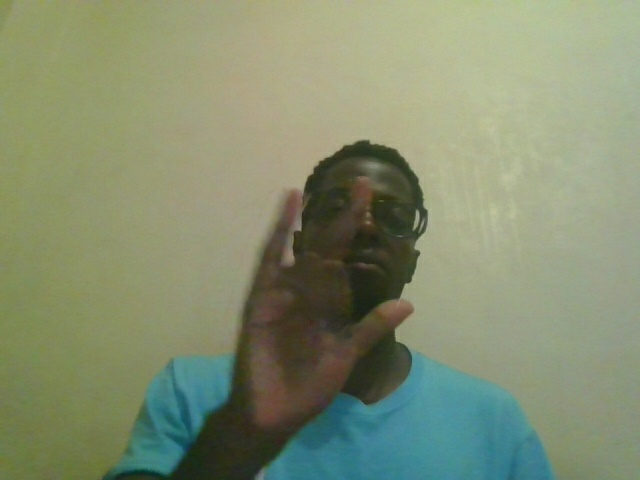I Love You: (227, 184, 423, 444)
